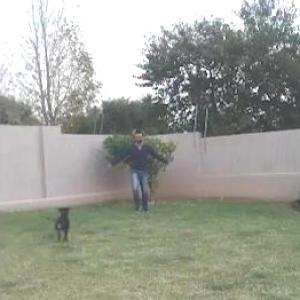land: (95, 119, 171, 221)
